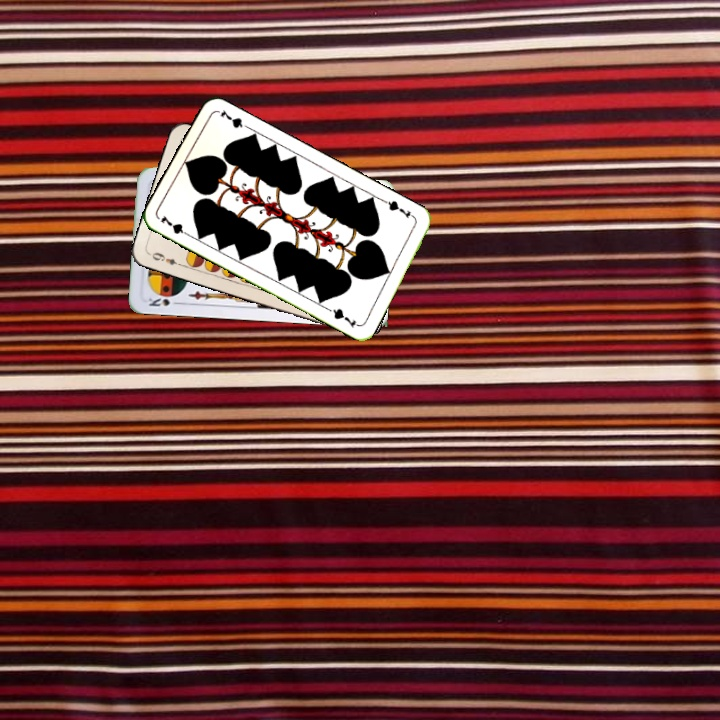E9: (146, 248, 185, 269)
G7: (156, 211, 194, 240), (380, 196, 418, 221)
SK: (144, 293, 183, 309)
